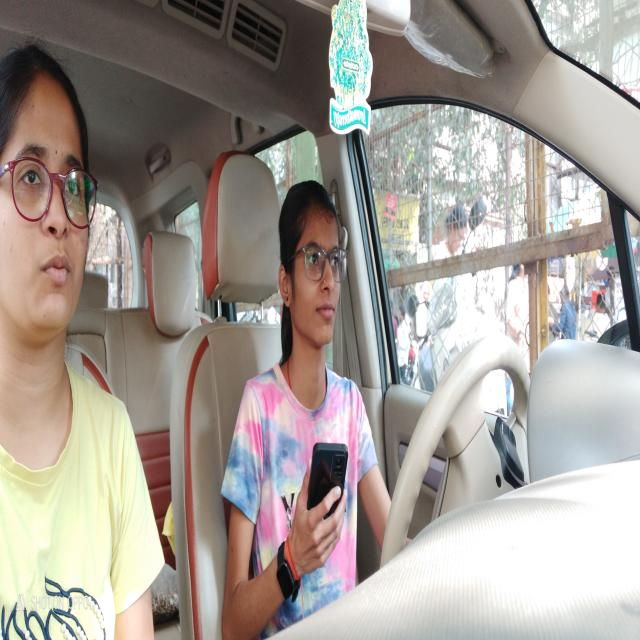mobile: (296, 430, 362, 542)
person: (2, 26, 107, 418), (274, 166, 356, 378)
